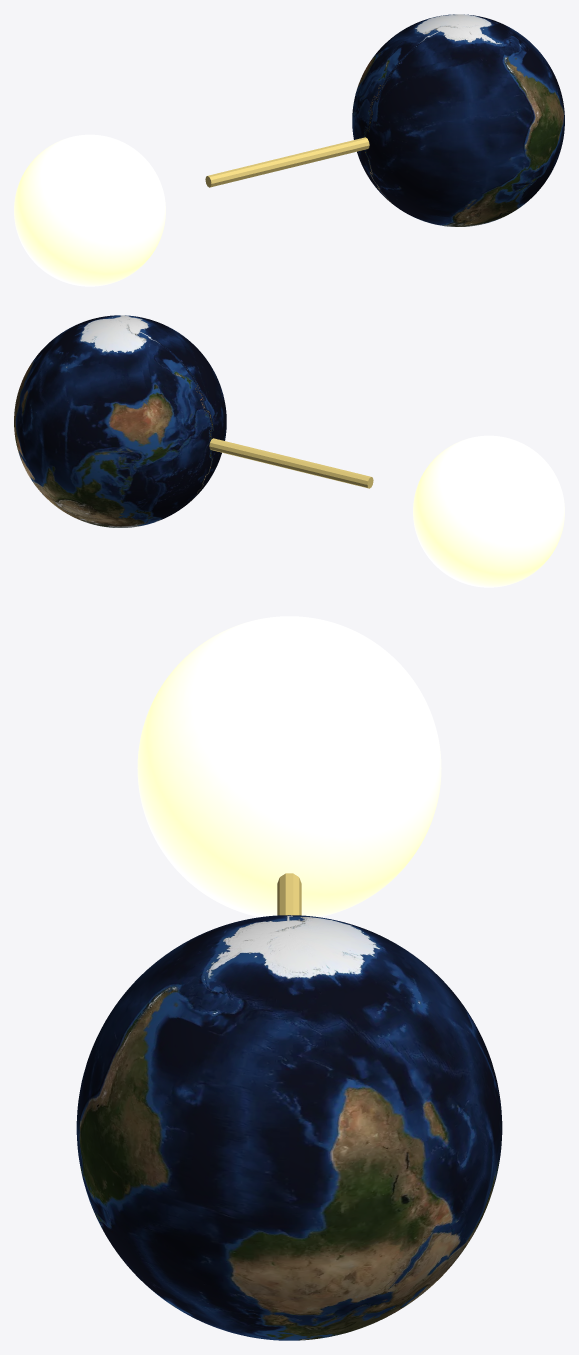
The model's file is sun-earth.glb.
3 renders of one model, top to bottom at view 1: azimuth 30°, elevation 25°; view 2: azimuth 150°, elevation 25°; view 3: azimuth 270°, elevation 25°, orthographic. The views are drawn at different scales.
Parts seen in each view (by area): view 1: SE_Earth, SE_Sun, SE_Flux; view 2: SE_Earth, SE_Sun, SE_Flux; view 3: SE_Earth, SE_Sun, SE_Flux.
Part boxes in pixels (left/top/right/bottom): SE_Earth: left=352, top=14, right=564, bottom=226; SE_Sun: left=14, top=134, right=165, bottom=286; SE_Flux: left=205, top=137, right=369, bottom=187; SE_Earth: left=14, top=315, right=226, bottom=527; SE_Sun: left=413, top=435, right=564, bottom=587; SE_Flux: left=209, top=438, right=373, bottom=488; SE_Earth: left=76, top=915, right=502, bottom=1340; SE_Sun: left=137, top=616, right=441, bottom=917; SE_Flux: left=277, top=873, right=301, bottom=915.
Bounding box in the file's own units: 4 × 1.4 × 1.4.
3 materials, 1 textured.
